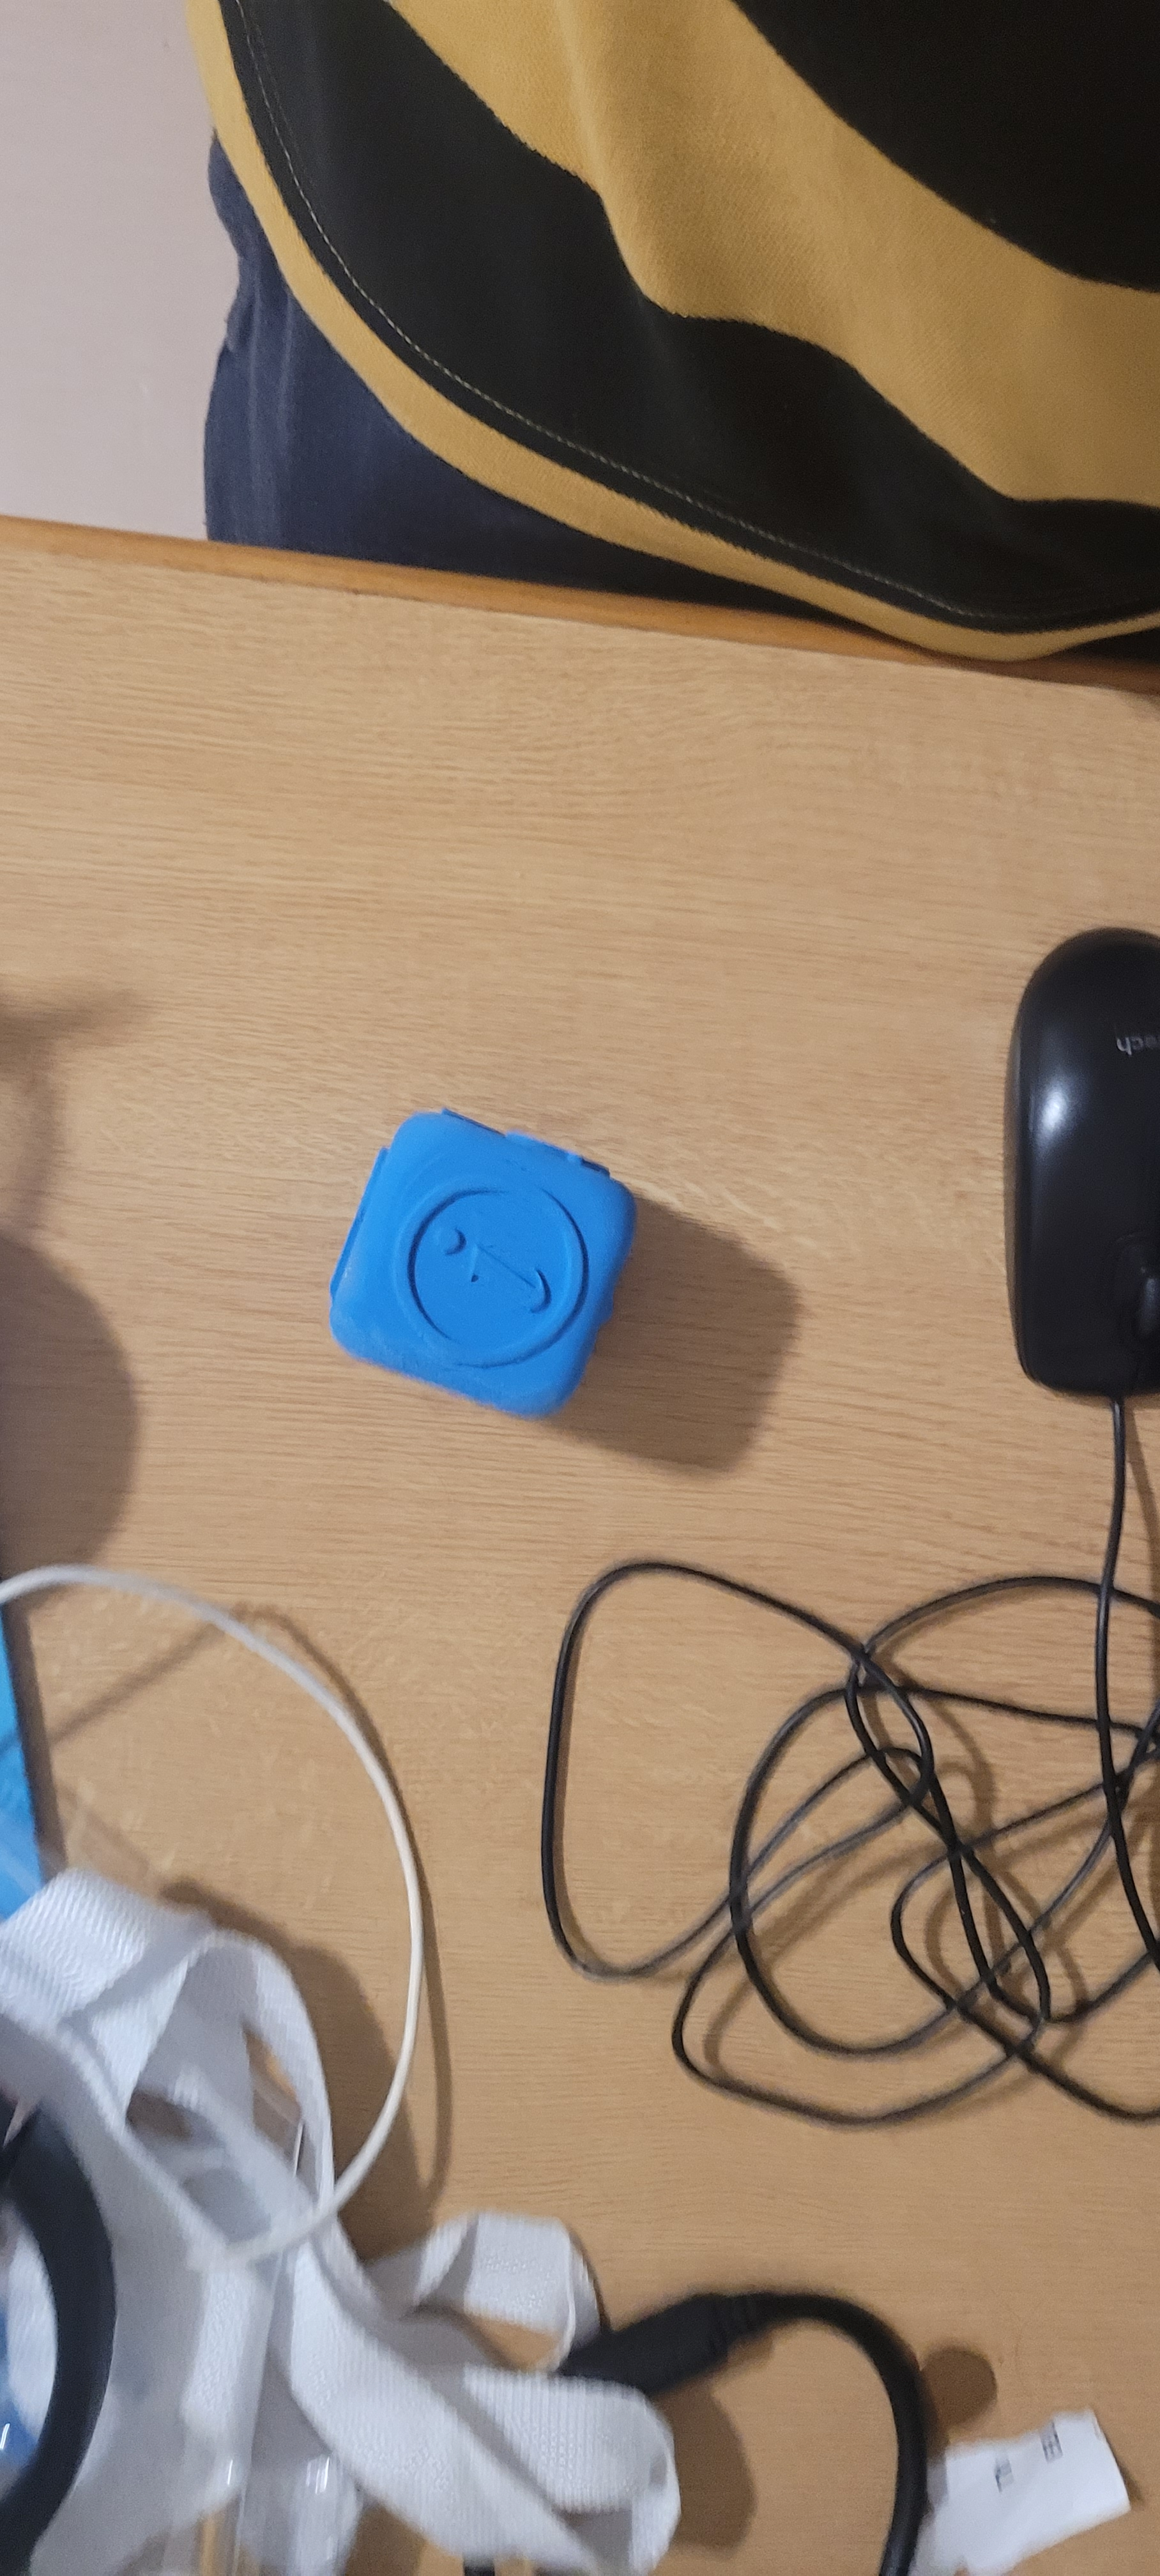Info: (389, 1138, 619, 1406)
